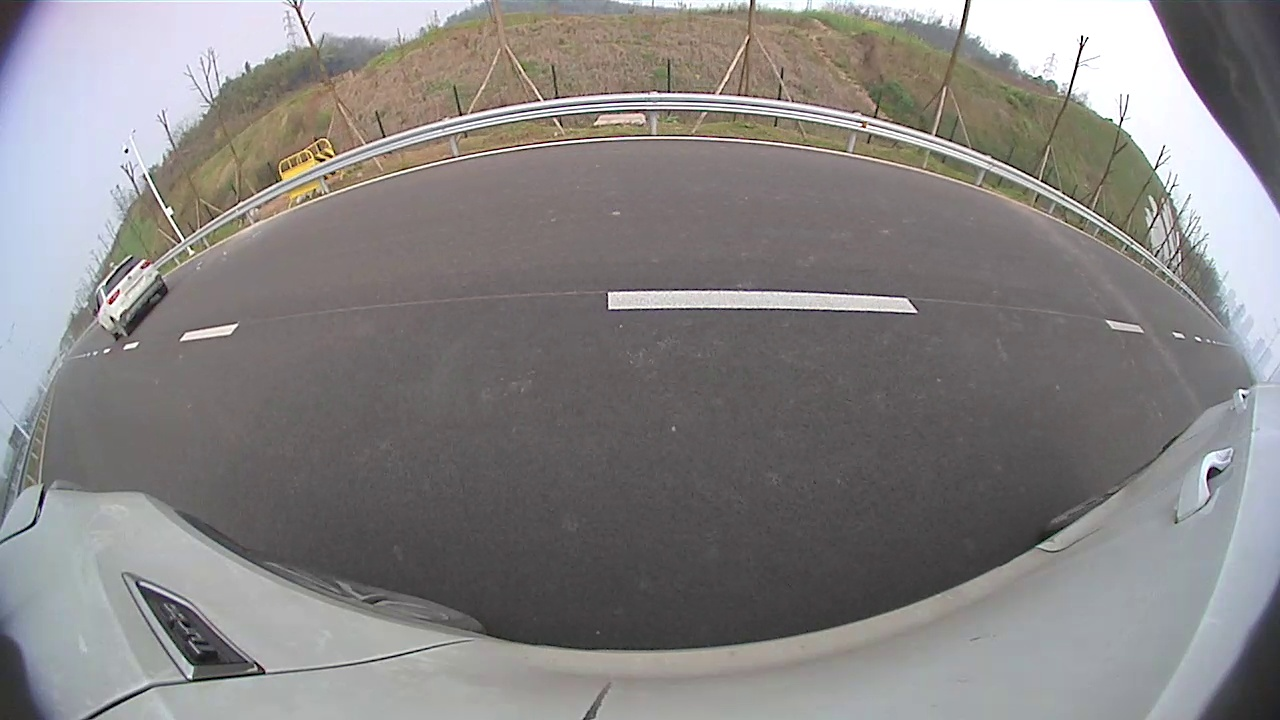car: (92, 254, 168, 340)
rear: (109, 315, 128, 340)
